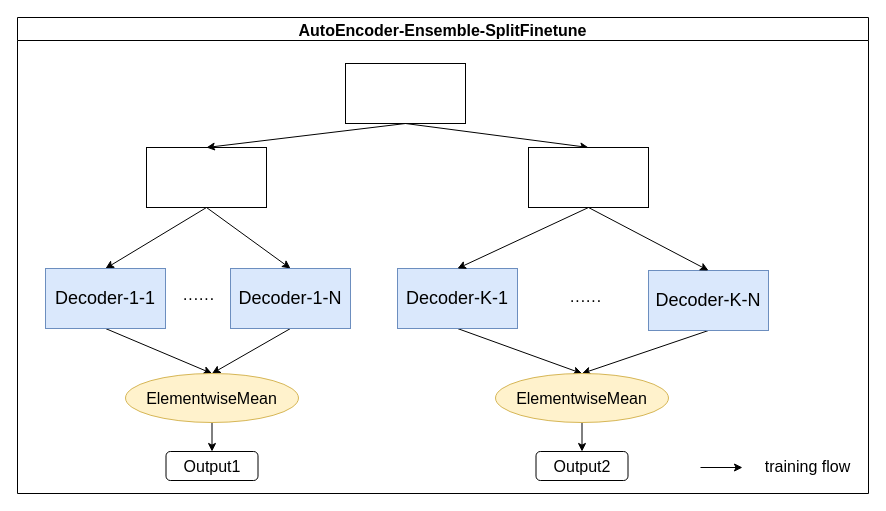
Some shapes in this 886 by 511 pixel diagram are drawn without their labels. Here are the shapes that lost their labels. From the top down, the box of each, then its label:
(344, 62, 466, 124): online-data
(146, 146, 266, 208): Encoder-1
(528, 146, 648, 208): Encoder-K
